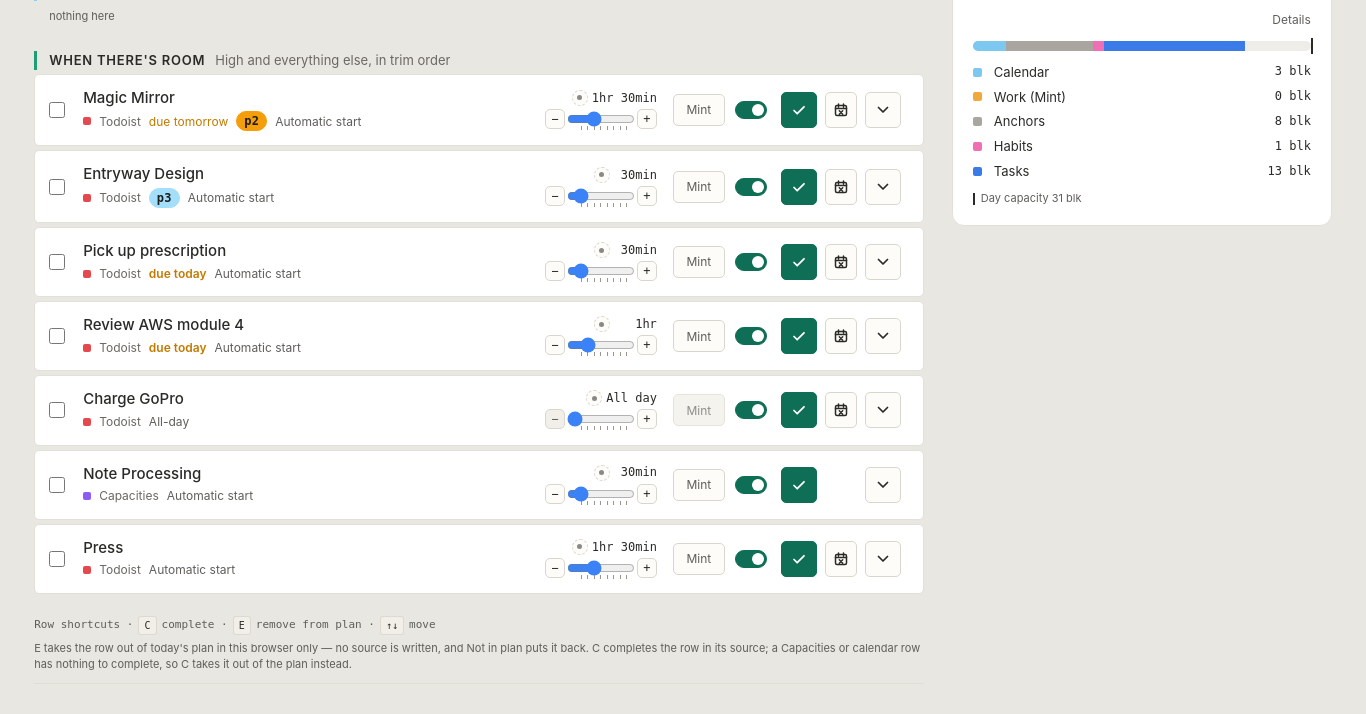
time editor › rejects non-HH:MM input
The image size is (1366, 714).
(page scrolled)
Step 1. Click the 7th button named "Expand" → (883, 559), box [865,541,901,577]
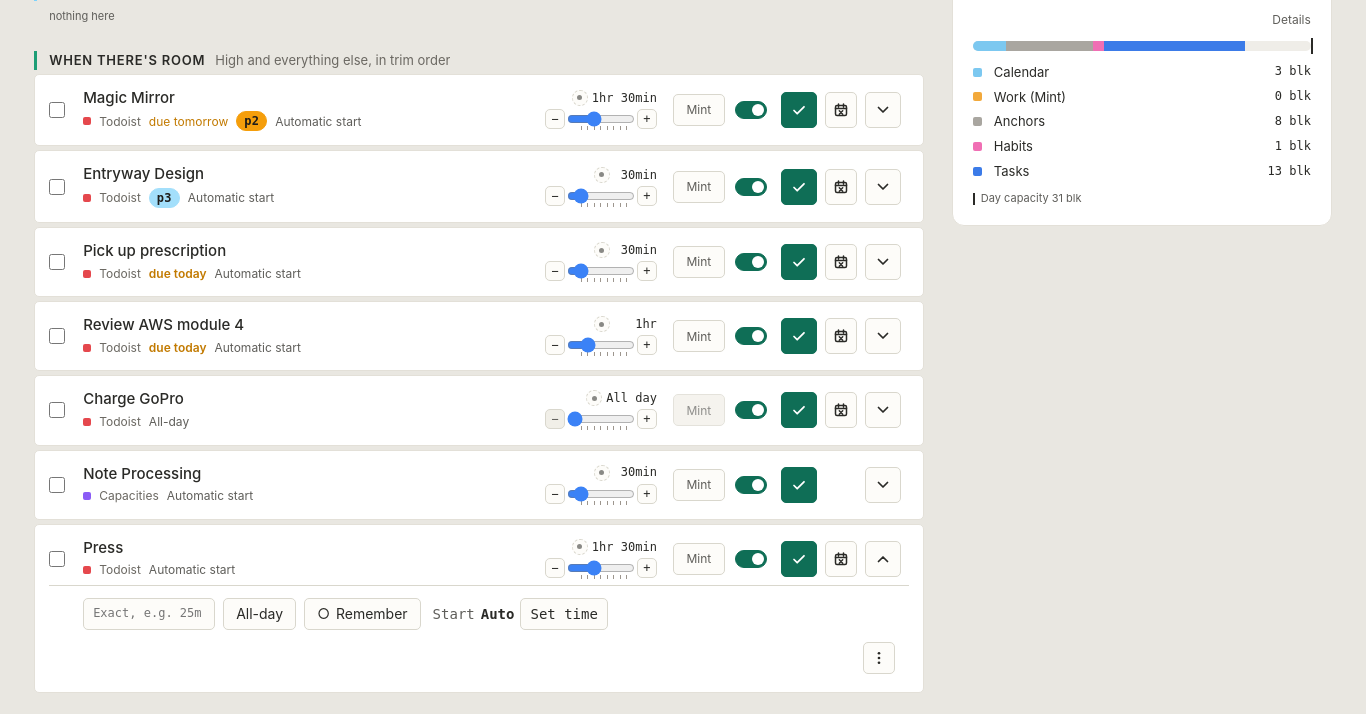
Step 2. Click the button "Set time" → (564, 614), box [520,598,608,630]
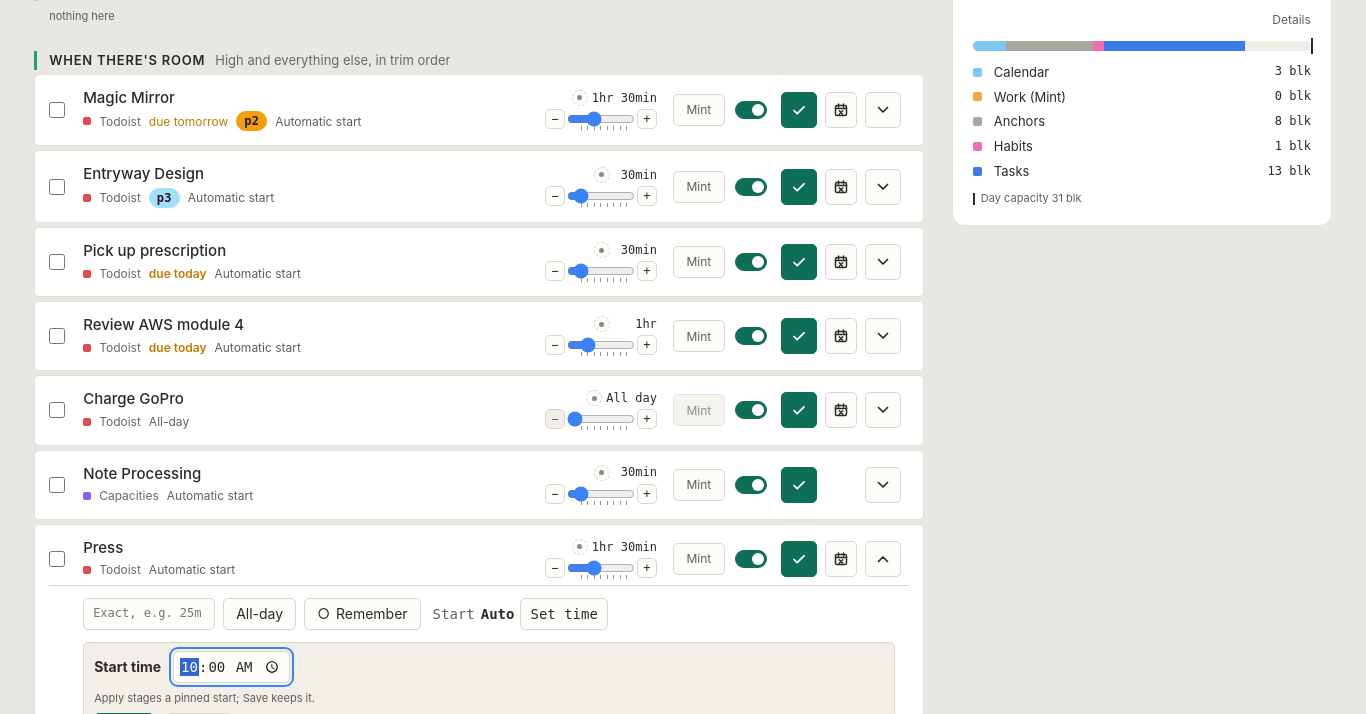
Step 3. Clear the time field labelled "Start time" → (231, 667), box [173,651,290,683]
(page scrolled)
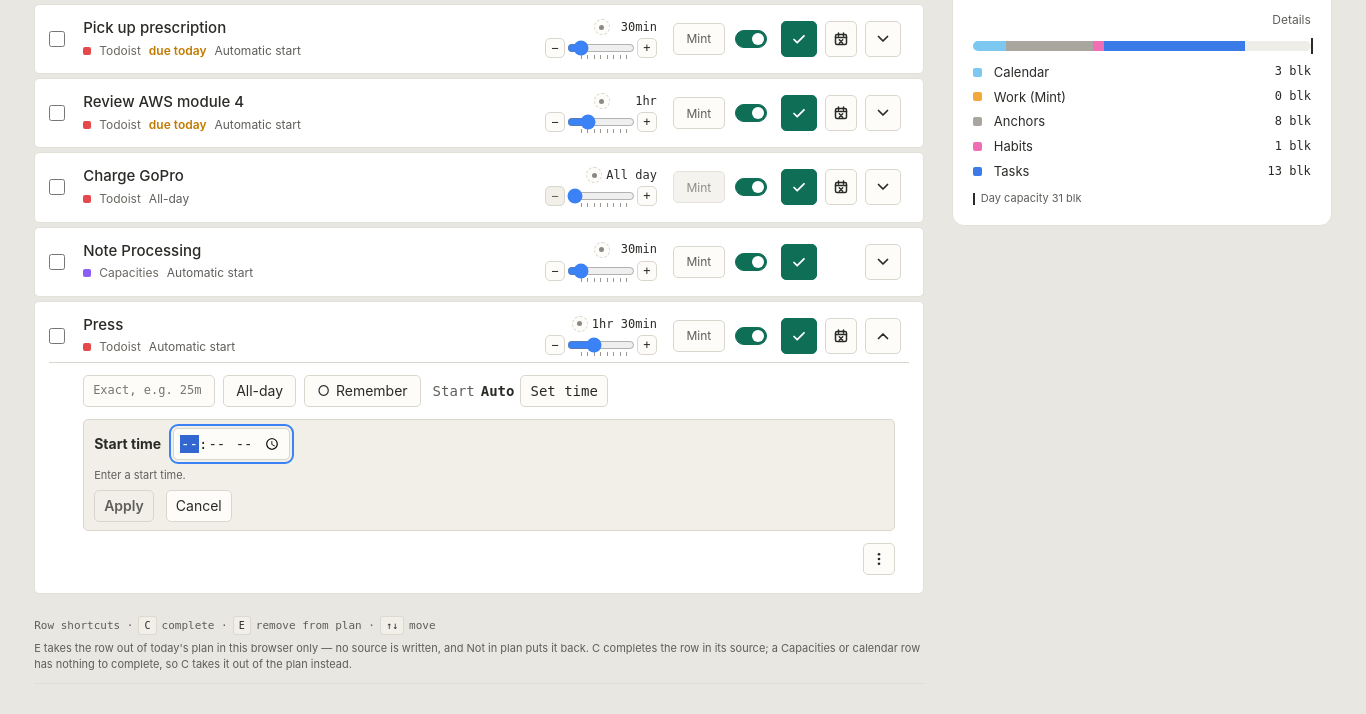
Now the button "Apply" is disabled, box [94,490,154,522]
